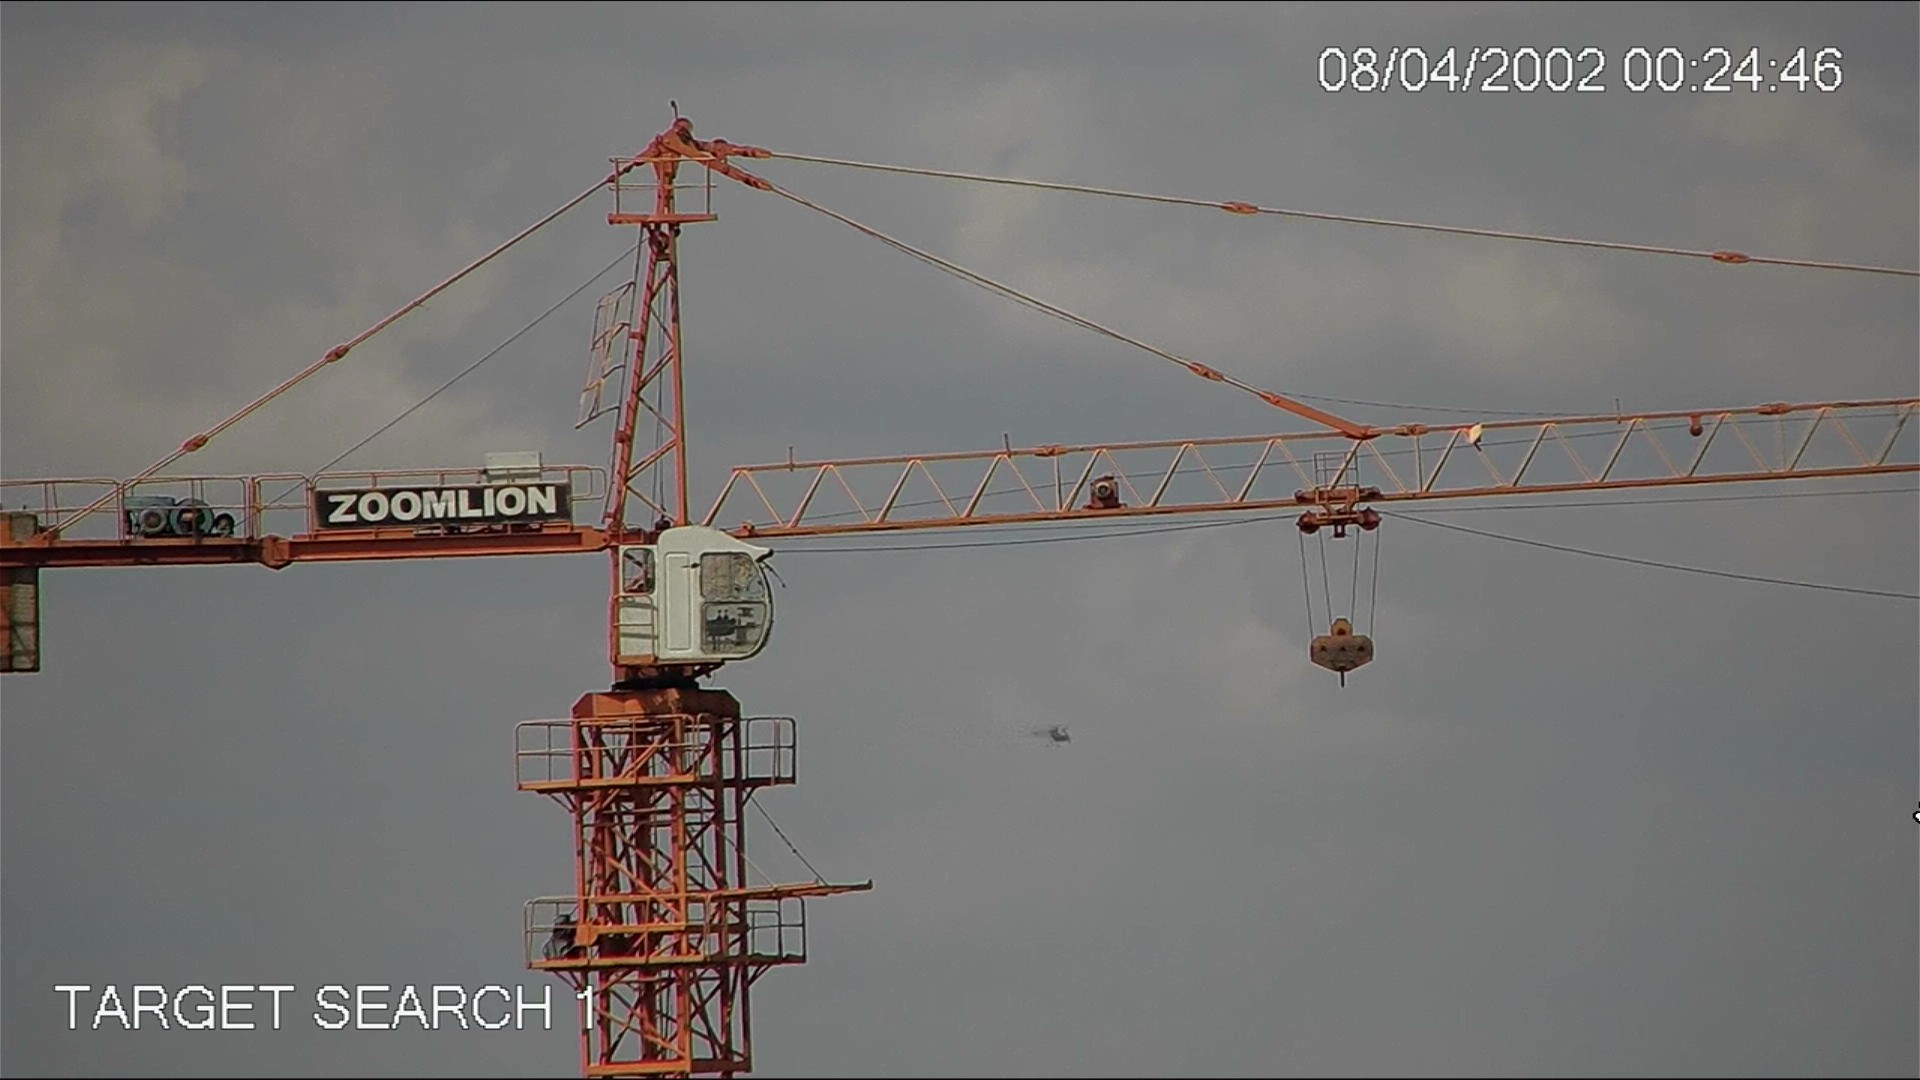SU_30: (1025, 717, 1075, 749)
